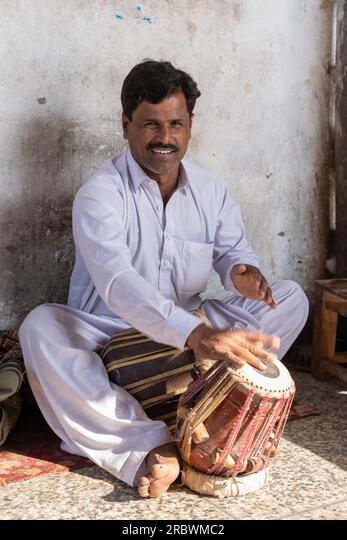tabla: (178, 351, 296, 478), (102, 316, 213, 407)
